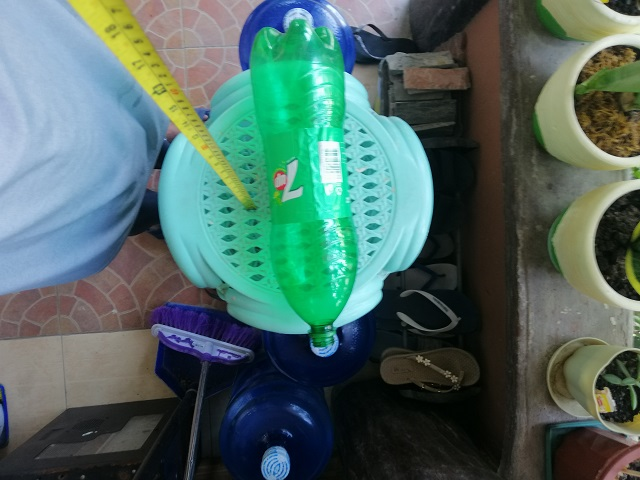bottle: (250, 20, 357, 348), (228, 368, 334, 480)
